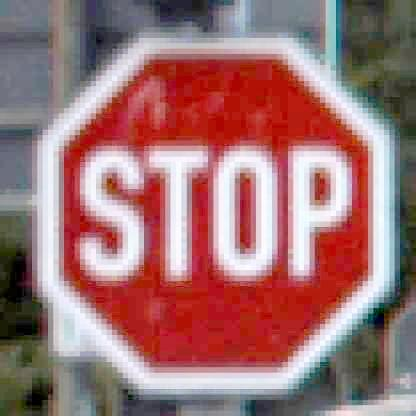Stop Sign: (44, 32, 402, 396)
